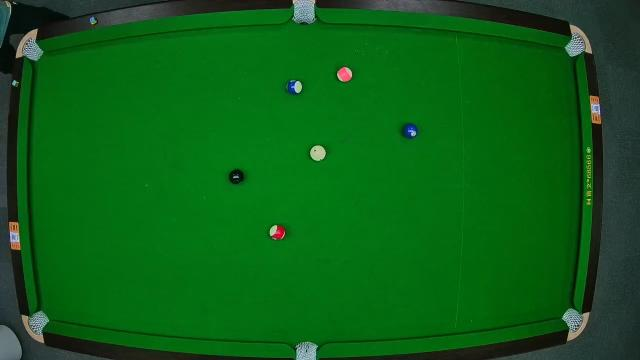bag1: (22, 39, 42, 61)
bag2: (292, 0, 318, 24)
bag3: (564, 33, 588, 55)
bag4: (27, 310, 48, 334)
bag5: (293, 340, 319, 360)
bag6: (562, 308, 582, 330)
ball0: (310, 146, 326, 162)
ball10: (287, 78, 303, 96)
ball11: (268, 222, 286, 242)
ball12: (337, 66, 353, 82)
ball2: (402, 124, 418, 138)
ball8: (228, 170, 244, 184)
